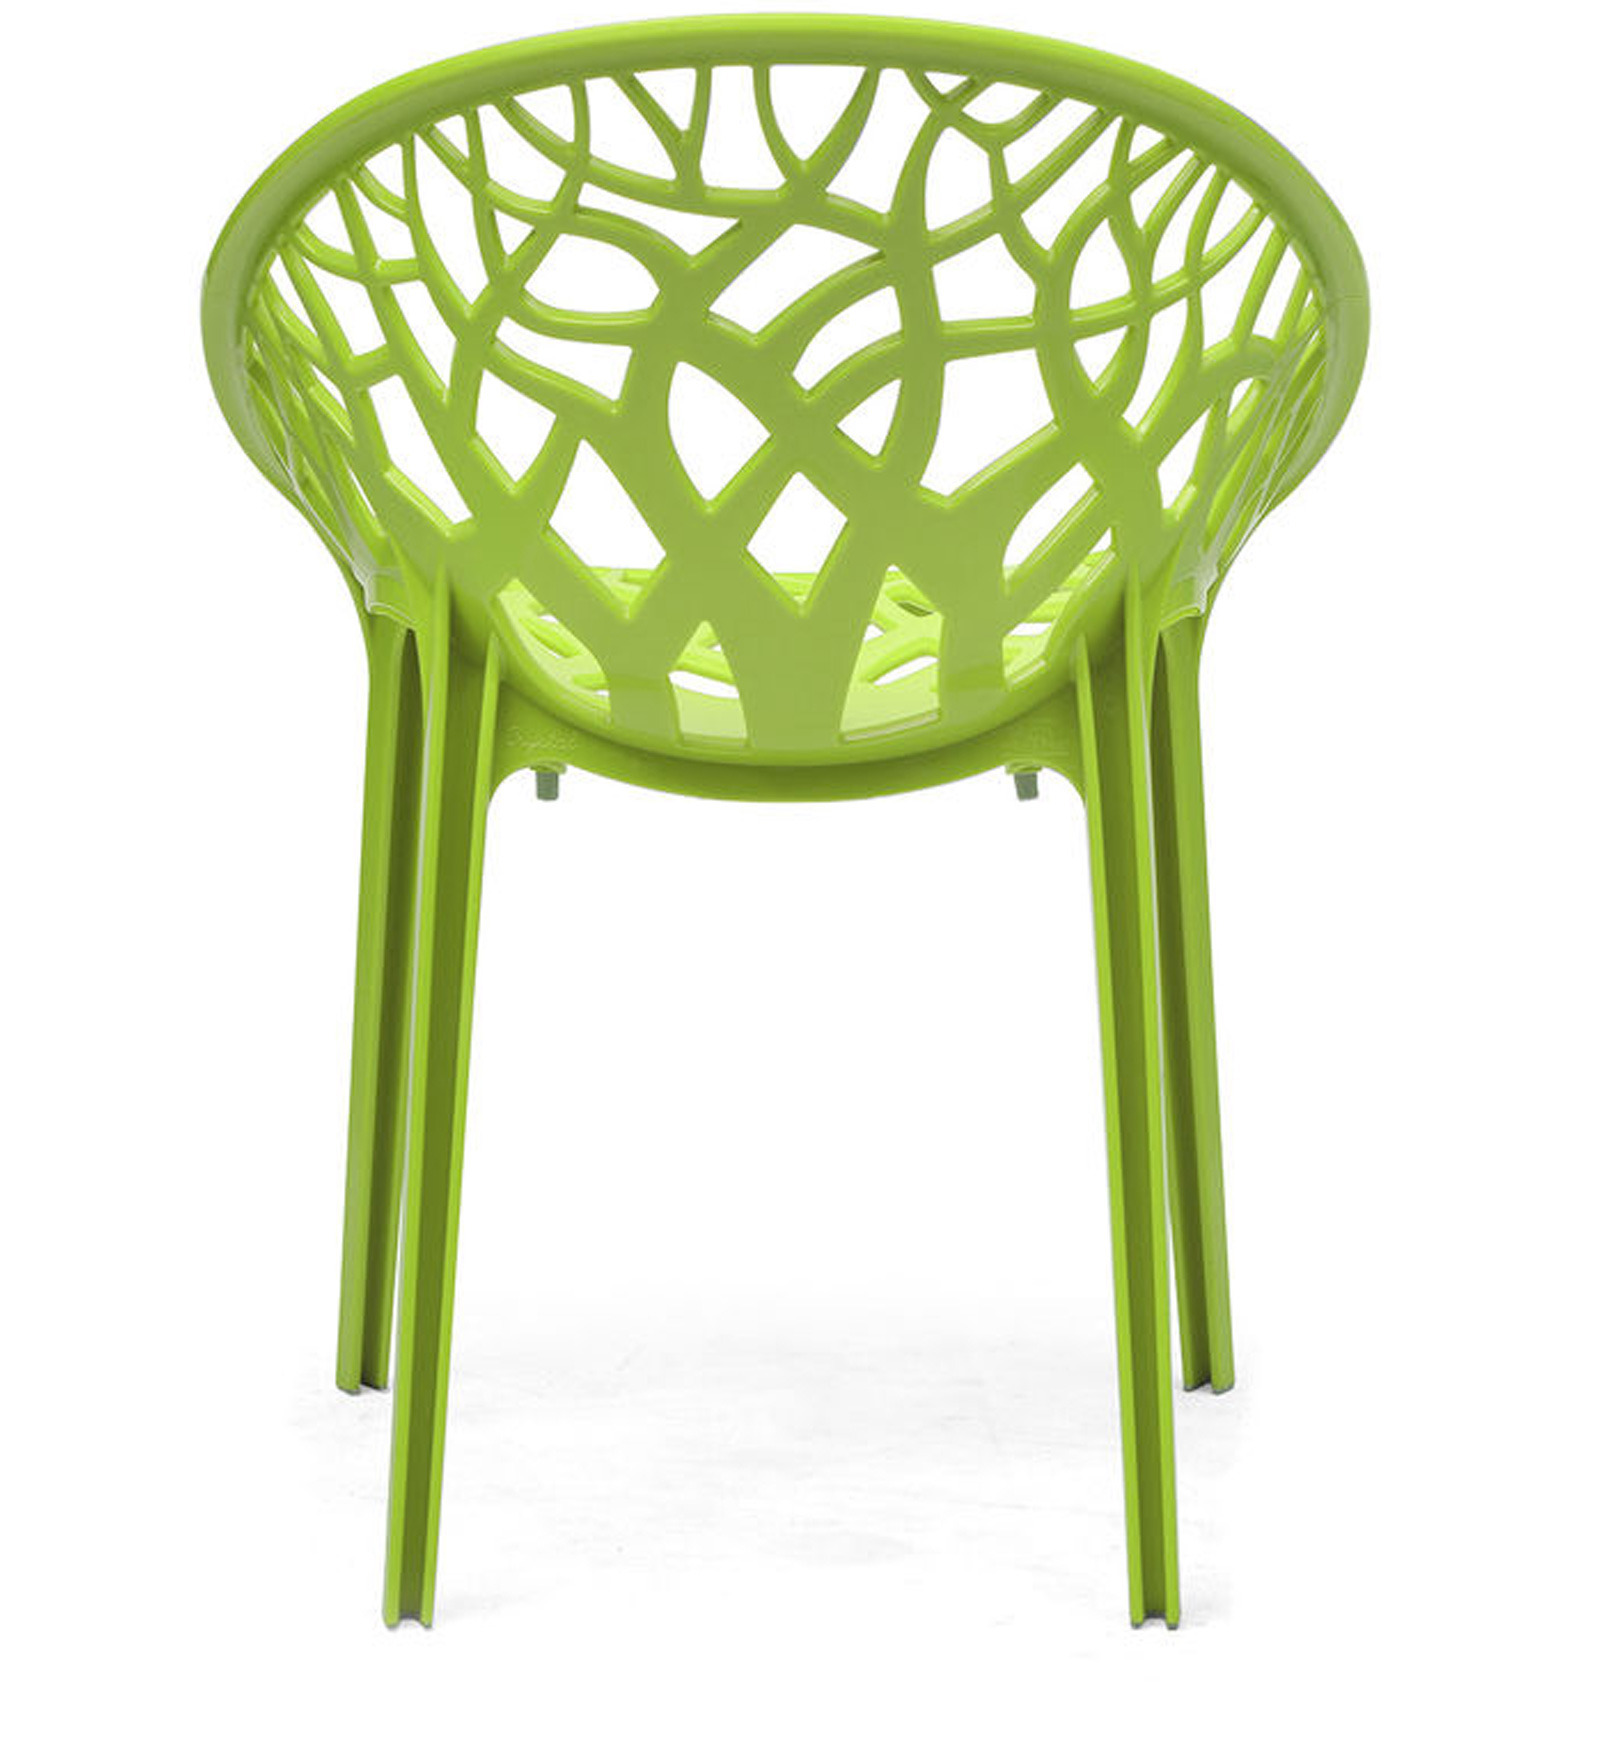Crystal Designer Chair in Lime Green Colour by Nilkamal: (127, 9, 1384, 1688)
